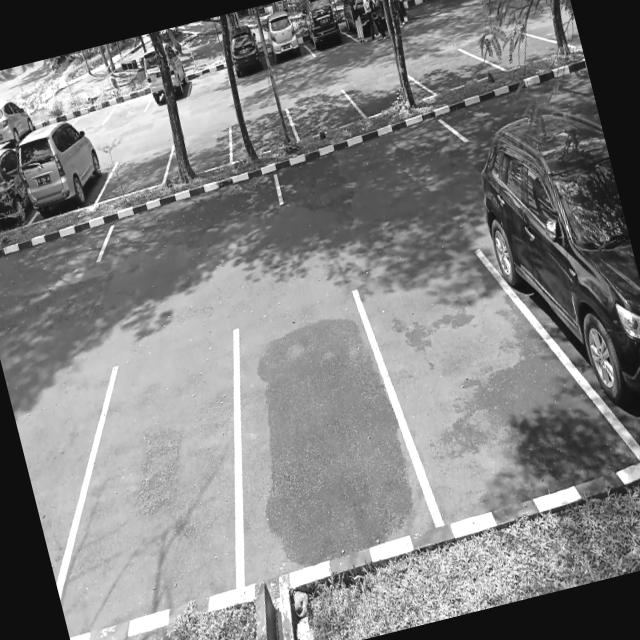car: (470, 103, 640, 450), (13, 130, 112, 227), (0, 153, 34, 242), (142, 58, 194, 115)
free: (351, 243, 639, 518), (233, 287, 443, 584), (65, 326, 242, 638), (269, 114, 464, 213), (90, 171, 286, 260), (161, 125, 238, 180), (413, 44, 490, 96), (99, 146, 174, 198), (286, 87, 361, 138), (350, 68, 421, 120), (225, 108, 298, 158), (98, 83, 154, 126), (184, 56, 234, 104)
